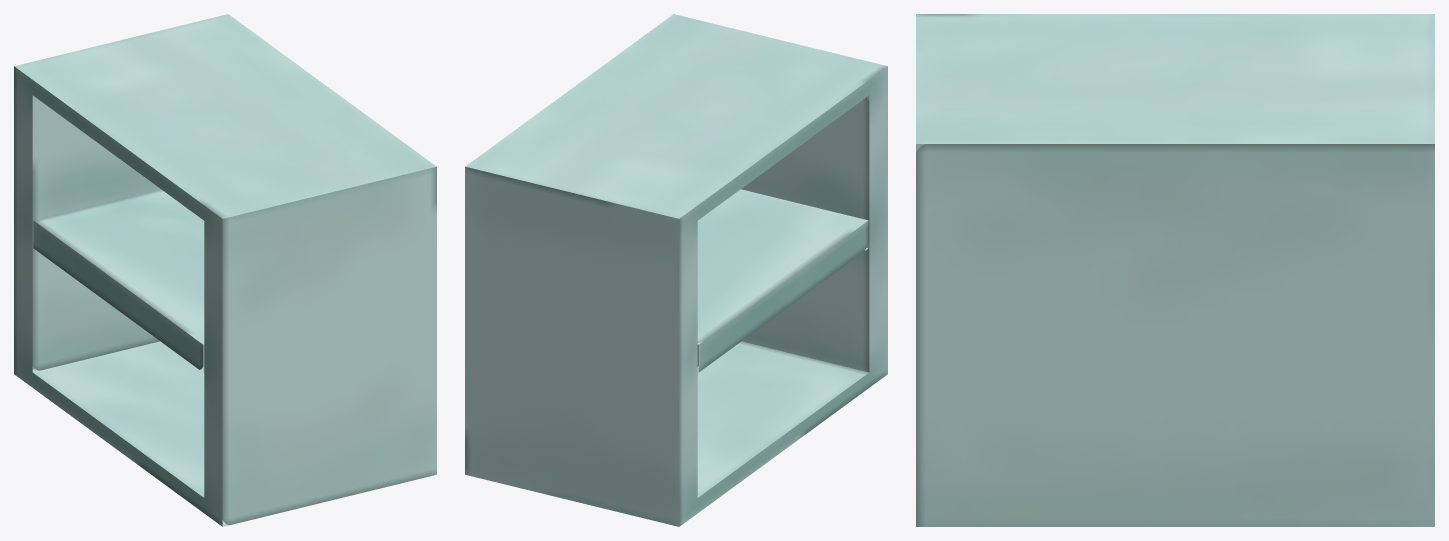
The model's file is shelf2.fbx.
3 renders of one model, left to right at view 1: azimuth 30°, elevation 25°; view 2: azimuth 150°, elevation 25°; view 3: azimuth 270°, elevation 25°, orthographic. The views are drawn at different scales.
Visible parts, largest first — view 1: cuboid, cuboid_1; view 2: cuboid, cuboid_1; view 3: cuboid.
Boxes of the visible parts, x1,y1,x2,y2 form: cuboid: (14,14,436,526); cuboid_1: (33,189,204,372); cuboid: (465,14,887,526); cuboid_1: (697,189,868,372); cuboid: (916,14,1434,526).
Size of the model in its own units: 100 by 138 by 169.
Materials: 1 (1 with a texture image).
